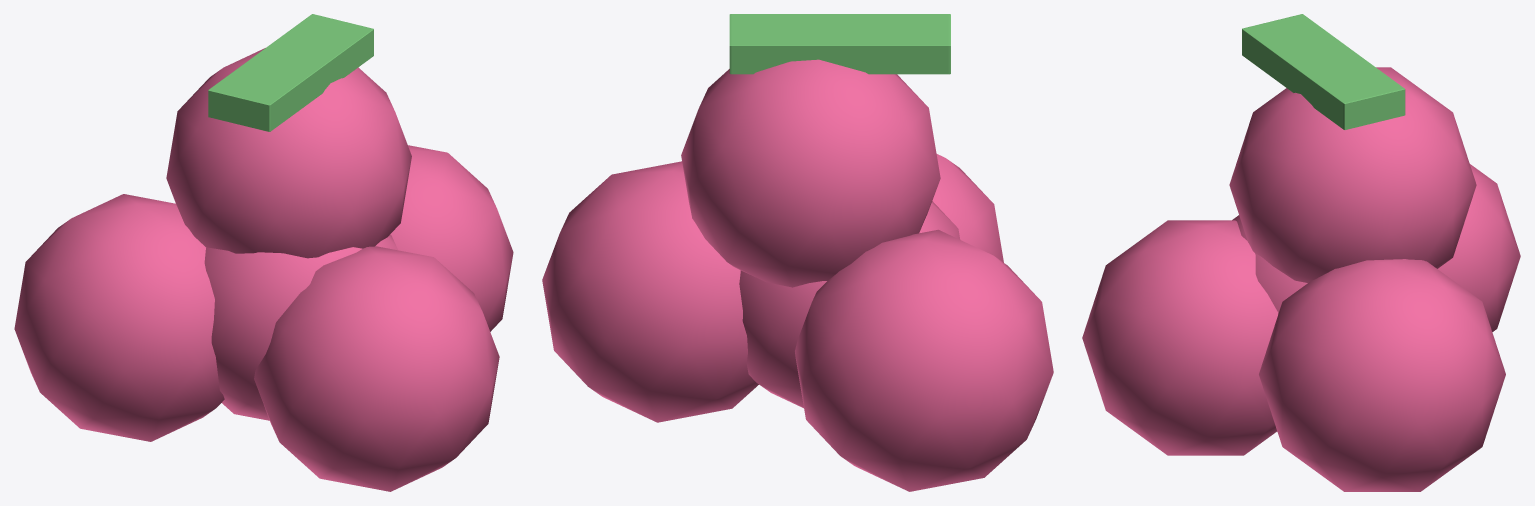
Rendered from Bait_Berries.fbx.
3 views of the same model, side by side, from view 1: azimuth 30°, elevation 25°; view 2: azimuth 150°, elevation 25°; view 3: azimuth 270°, elevation 25° (orthographic). The views are drawn at different scales.
Parts seen in each view (by area): view 1: Bait, BaitAccent; view 2: Bait, BaitAccent; view 3: Bait, BaitAccent.
Part boxes in pixels (<box>): Bait: <box>14,48,513,491</box>; BaitAccent: <box>208,14,373,131</box>; Bait: <box>542,59,1053,491</box>; BaitAccent: <box>729,14,950,74</box>; Bait: <box>1082,67,1520,491</box>; BaitAccent: <box>1242,14,1405,129</box>.
Size of the model in its own units: 1.75 by 1.42 by 1.49.
